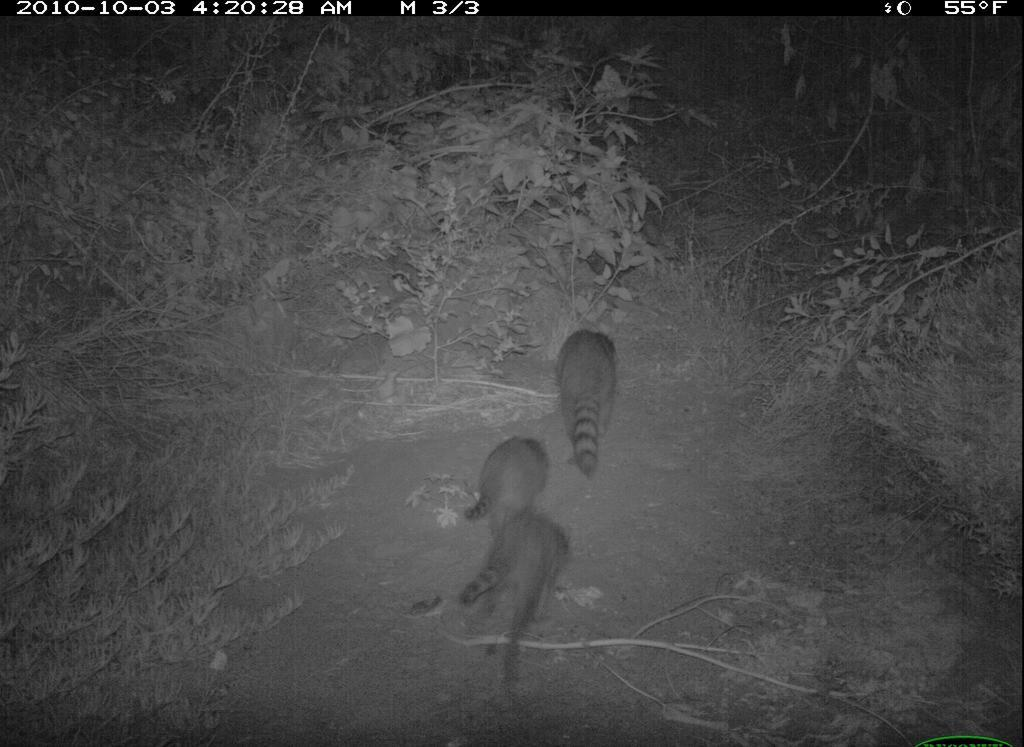raccoon: (463, 517, 575, 654), (551, 319, 635, 477), (465, 429, 548, 532)
